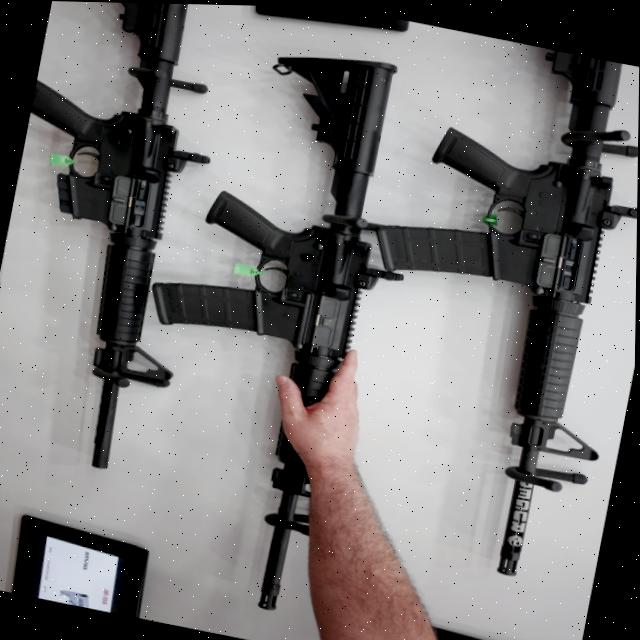firearm: (96, 21, 445, 624), (317, 18, 640, 587), (0, 0, 249, 480), (58, 587, 97, 608)
